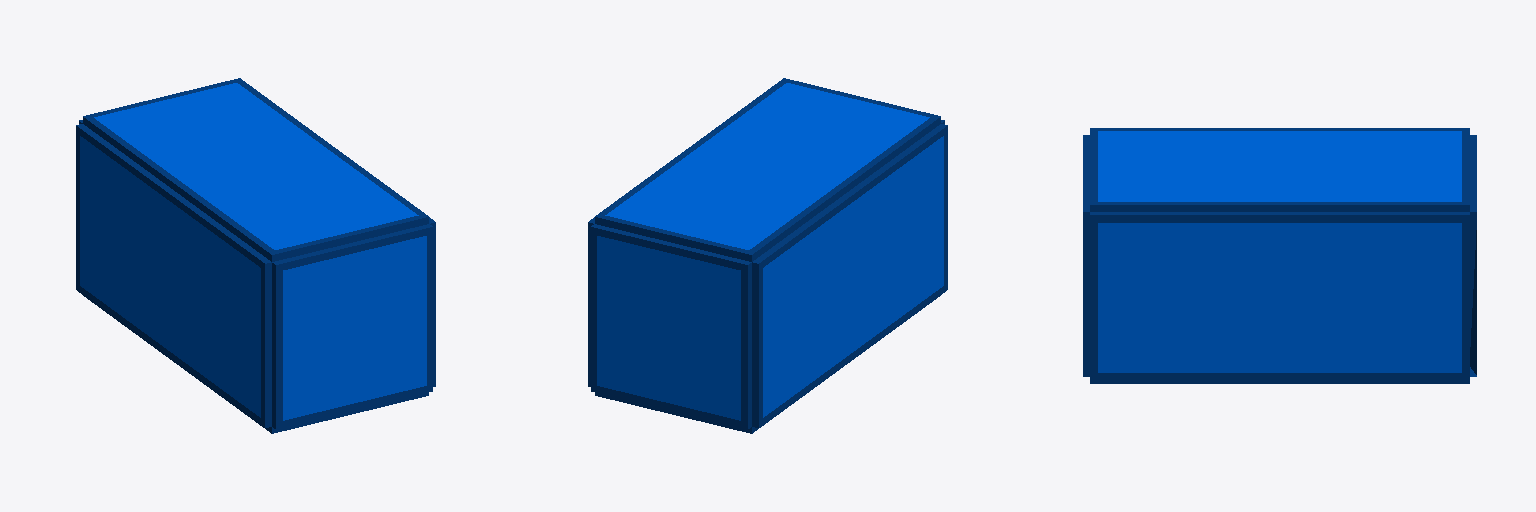
The picture shows the model from 3 angles: view 1: azimuth 30°, elevation 25°; view 2: azimuth 150°, elevation 25°; view 3: azimuth 270°, elevation 25°; orthographic projection.
Parts seen in each view (by area): view 1: blue; view 2: blue; view 3: blue.
Boxes of the visible parts, <box> form: blue: <box>76,78,435,433</box>; blue: <box>588,78,947,433</box>; blue: <box>1083,128,1476,383</box>.
Size of the model in its own units: 25 by 25 by 50.
1 materials, 1 textured.